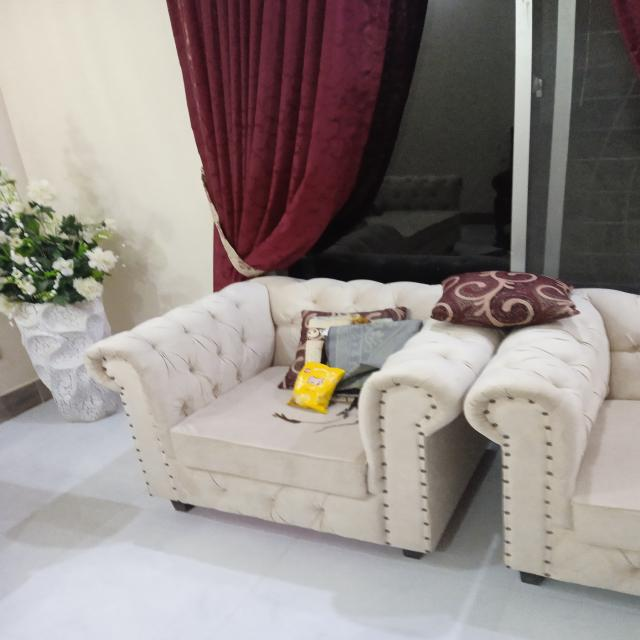Plastic: (287, 356, 349, 418)
